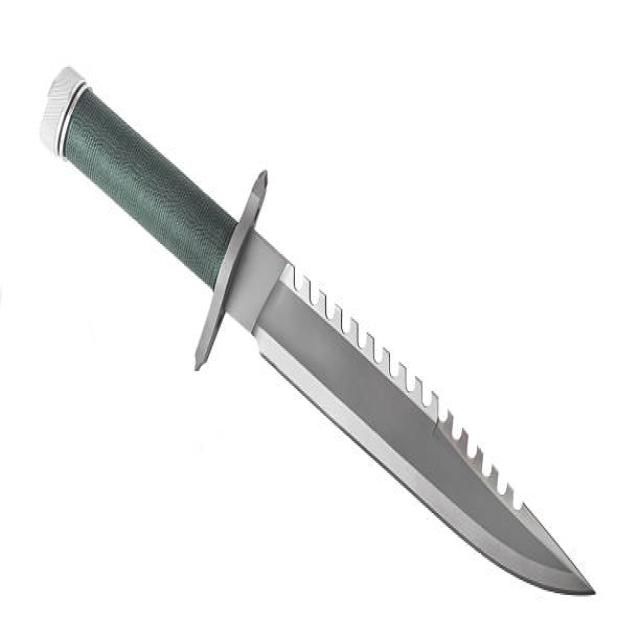knife: (27, 61, 602, 619)
